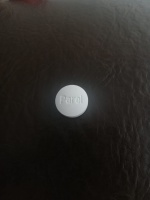Parol: (53, 83, 89, 118)
